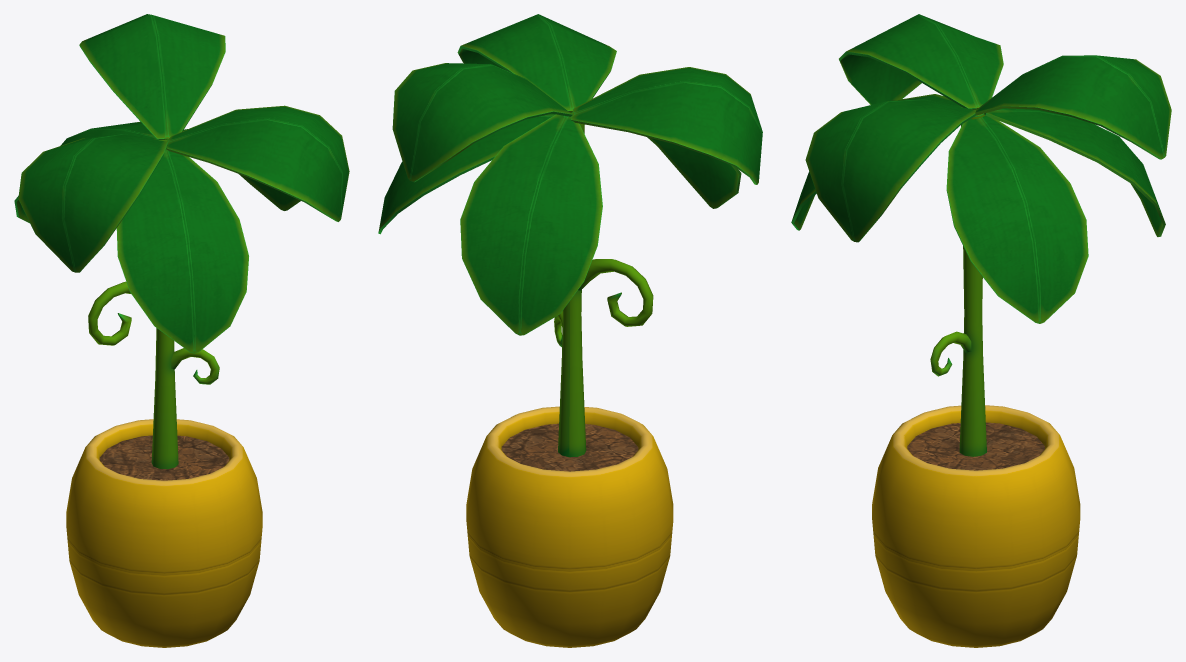
The model's file is OfficePlanter01_1.FBX.
3 renders of one model, left to right at view 1: azimuth 30°, elevation 25°; view 2: azimuth 150°, elevation 25°; view 3: azimuth 270°, elevation 25°, orthographic. The views are drawn at different scales.
Parts seen in each view (by area): view 1: OfficePlanter01_1; view 2: OfficePlanter01_1; view 3: OfficePlanter01_1.
Boxes of the visible parts, <box> form: OfficePlanter01_1: <box>14,14,349,647</box>; OfficePlanter01_1: <box>378,14,762,647</box>; OfficePlanter01_1: <box>791,14,1171,647</box>.
Size of what is drawn, in the model's own units: 1.08 by 1.86 by 1.09.
